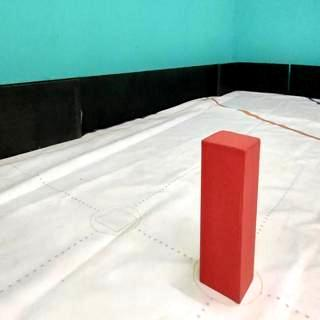redbox: (201, 128, 260, 306)
